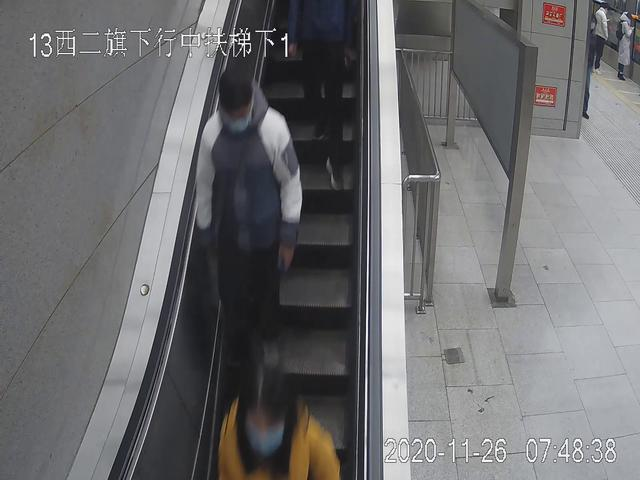person: (194, 71, 299, 409), (218, 367, 339, 480), (613, 12, 635, 82), (593, 3, 607, 71)
